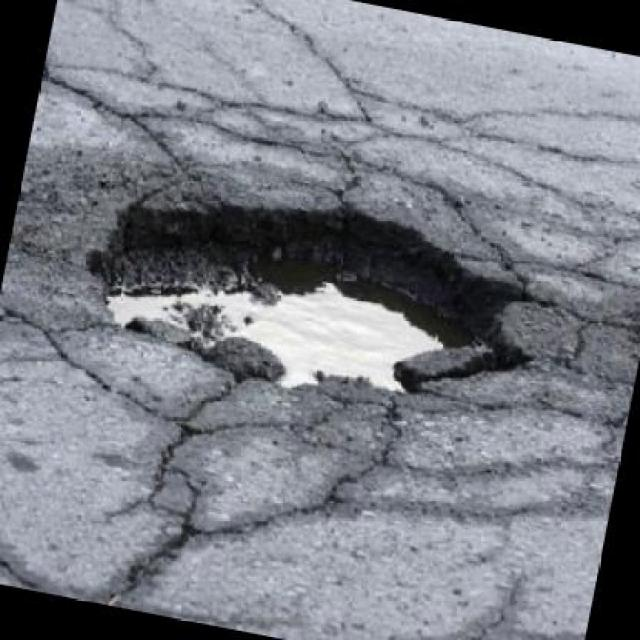pothole1: (64, 146, 558, 446)
